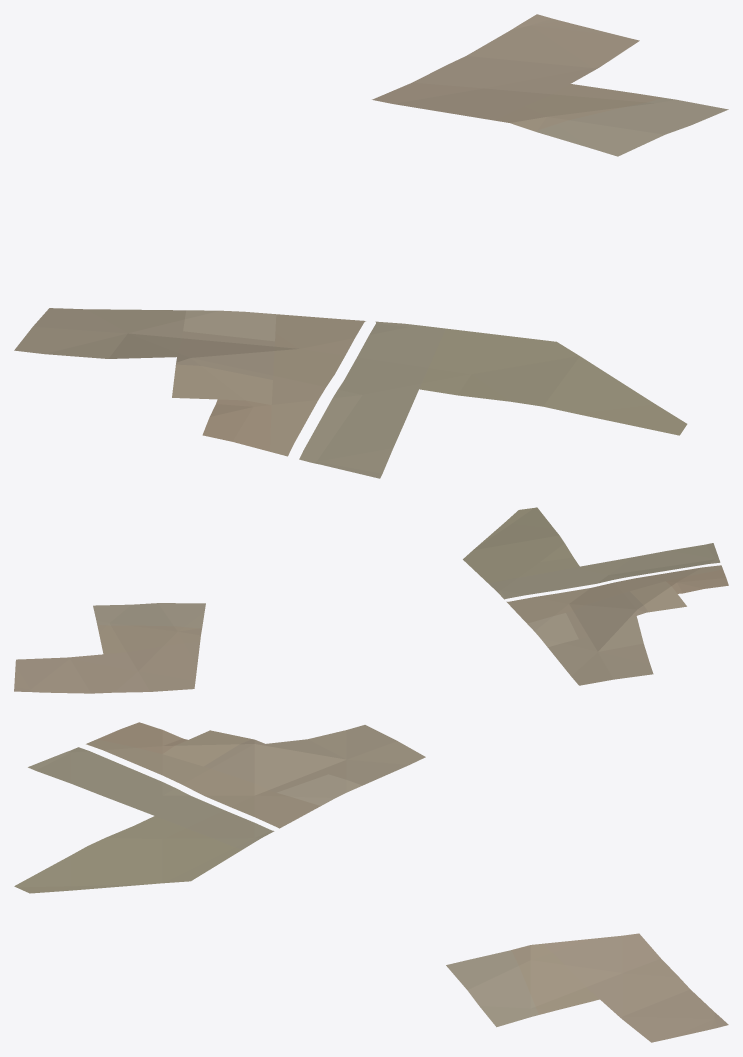
File: farm_2_9_soil.glb
3 renders of one model, top to bottom at view 1: azimuth 30°, elevation 25°; view 2: azimuth 150°, elevation 25°; view 3: azimuth 270°, elevation 25°, orthographic. The views are drawn at different scales.
Parts seen in each view (by area): view 1: geometry_0; view 2: geometry_0; view 3: geometry_0.
Boxes of the visible parts, <box> form: geometry_0: <box>14,14,728,478</box>; geometry_0: <box>14,507,728,693</box>; geometry_0: <box>14,722,728,1042</box>.
Size of the model in its own units: 603 by 40.39 by 622.
